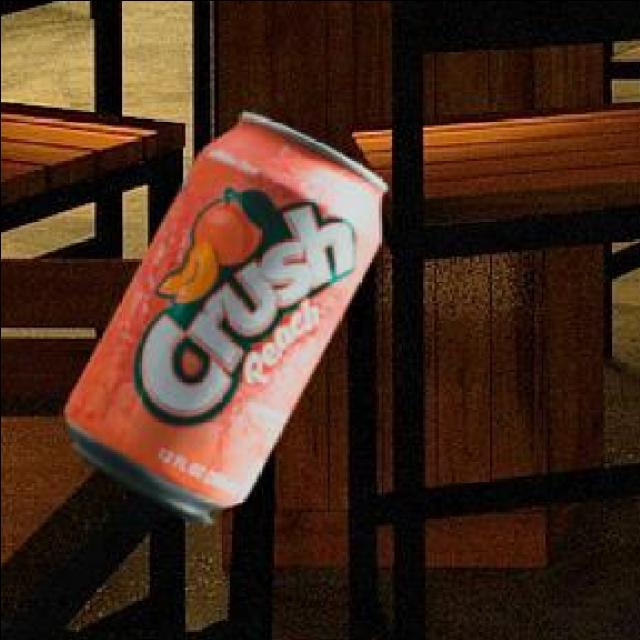logam: (61, 108, 383, 519)
